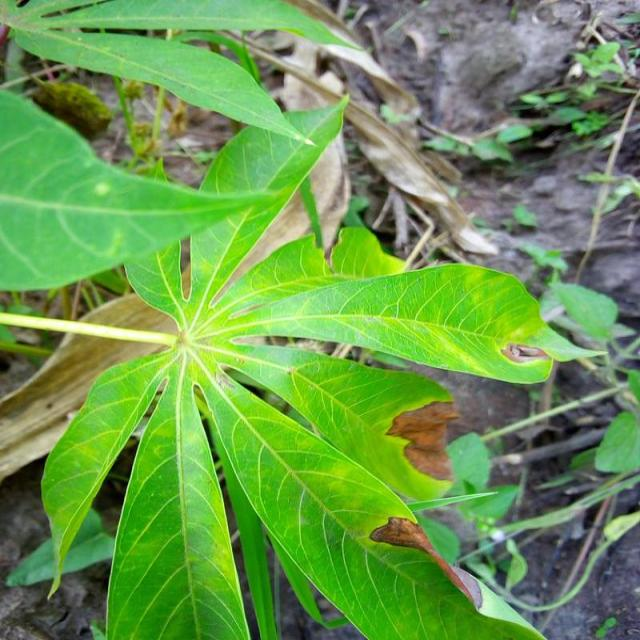cassava leaf: (14, 88, 598, 637), (0, 81, 350, 292)
